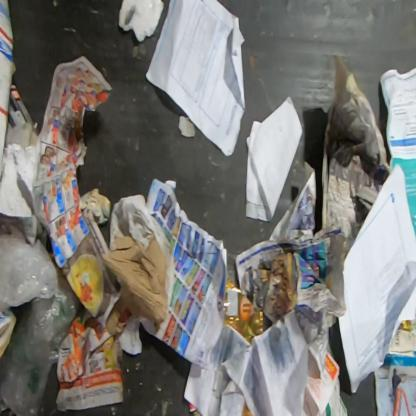cardboard: (101, 233, 169, 333), (0, 0, 18, 199), (0, 301, 16, 360)
soft_plastic: (0, 272, 82, 415), (0, 235, 58, 307), (223, 281, 264, 345), (242, 400, 254, 415), (189, 401, 200, 415)
